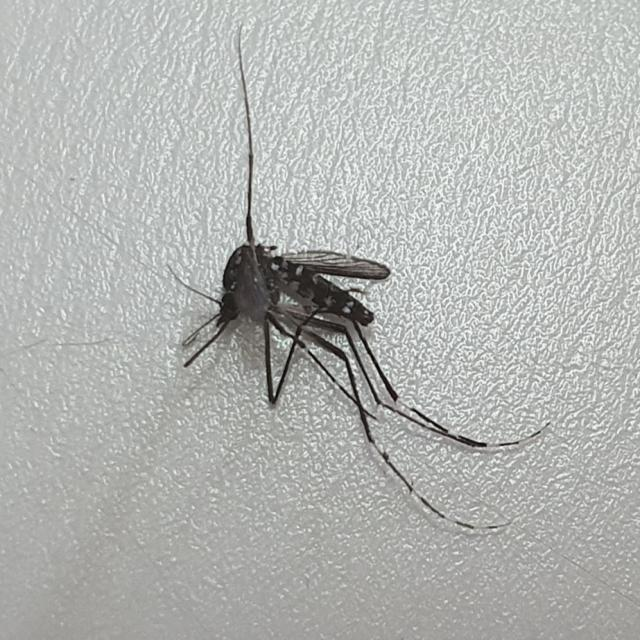albopictus: (165, 49, 542, 566)
